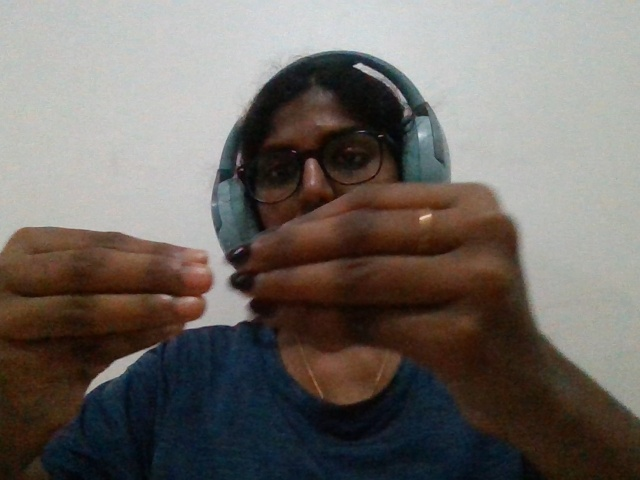More: (1, 172, 605, 479)
